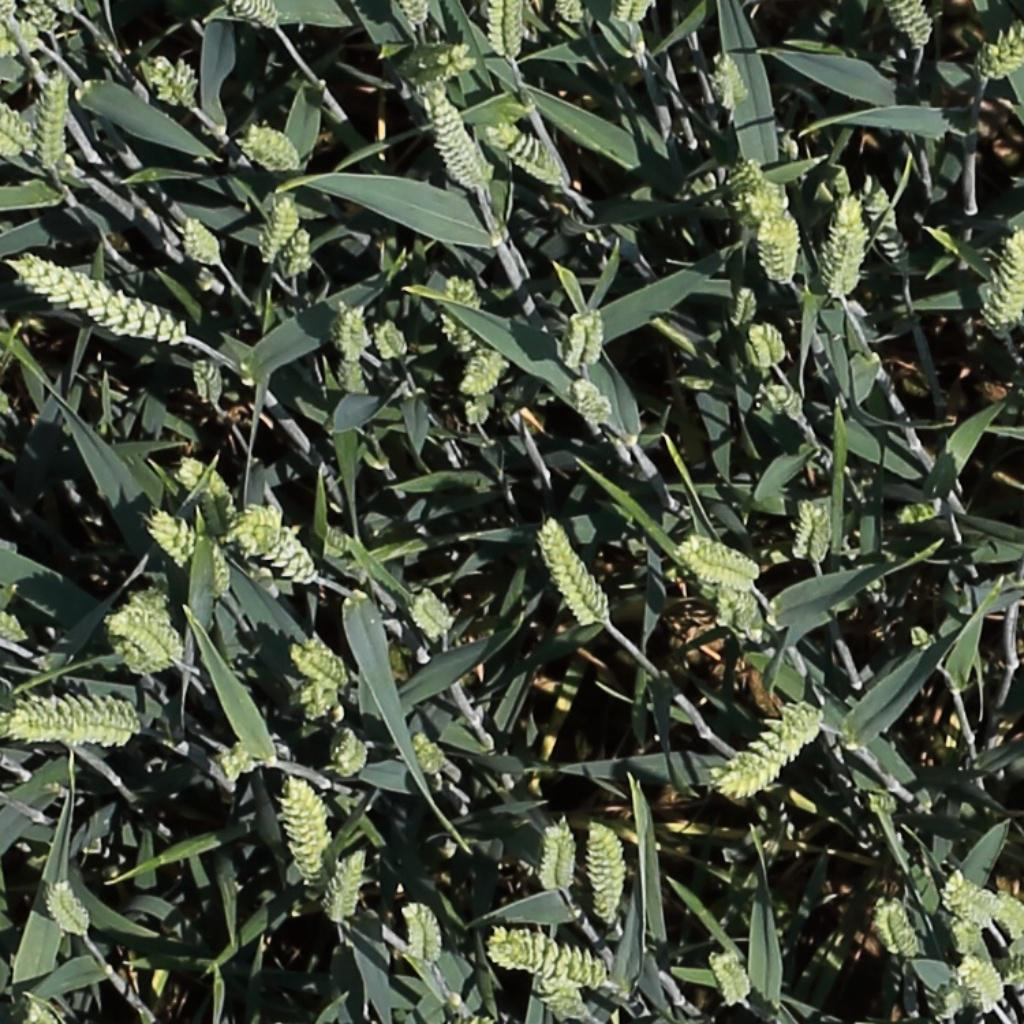0-0: (9, 253, 193, 350), (183, 454, 290, 548), (723, 703, 826, 797), (8, 685, 143, 754), (539, 514, 613, 630), (99, 586, 184, 677), (423, 80, 484, 189), (862, 172, 916, 274), (486, 120, 567, 182), (241, 523, 320, 585), (672, 537, 764, 589), (283, 779, 326, 890), (522, 963, 607, 1019), (588, 822, 629, 933), (821, 191, 864, 296), (491, 943, 607, 981), (392, 43, 474, 91), (832, 197, 869, 303), (985, 229, 1022, 334), (716, 566, 768, 639), (763, 196, 803, 290), (543, 816, 585, 905), (330, 846, 370, 929), (148, 506, 197, 572), (258, 188, 299, 266), (977, 13, 1024, 81), (942, 882, 999, 938), (111, 599, 172, 651), (707, 946, 755, 1011), (879, 894, 922, 966), (46, 876, 92, 942), (147, 51, 195, 114), (438, 313, 494, 367), (726, 160, 771, 225), (967, 958, 1012, 1022), (178, 207, 225, 268), (404, 895, 442, 970), (939, 912, 989, 969), (40, 64, 66, 173), (423, 984, 492, 1024), (299, 674, 349, 728), (744, 662, 786, 726), (410, 587, 456, 644), (795, 496, 833, 564), (570, 374, 615, 430), (289, 647, 348, 689), (243, 125, 303, 166), (714, 45, 748, 117), (748, 315, 789, 374), (330, 723, 368, 785), (990, 887, 1024, 954), (408, 729, 450, 783), (763, 380, 813, 425), (462, 348, 509, 395), (189, 350, 223, 413), (372, 312, 412, 365), (8, 990, 69, 1024), (282, 221, 314, 285), (339, 335, 368, 402), (580, 303, 607, 374), (206, 535, 233, 604), (341, 294, 368, 363), (899, 1, 933, 54), (498, 0, 524, 65), (443, 270, 484, 311), (566, 304, 589, 376), (0, 21, 51, 53), (731, 278, 759, 334), (214, 744, 257, 780), (0, 606, 38, 644), (898, 496, 947, 525), (0, 99, 27, 151), (28, 0, 68, 32), (929, 977, 960, 1014), (236, 0, 281, 25), (555, 0, 588, 30), (402, 0, 431, 34), (617, 0, 648, 30), (467, 399, 495, 431), (0, 673, 15, 709), (0, 0, 19, 27), (57, 0, 79, 11)
